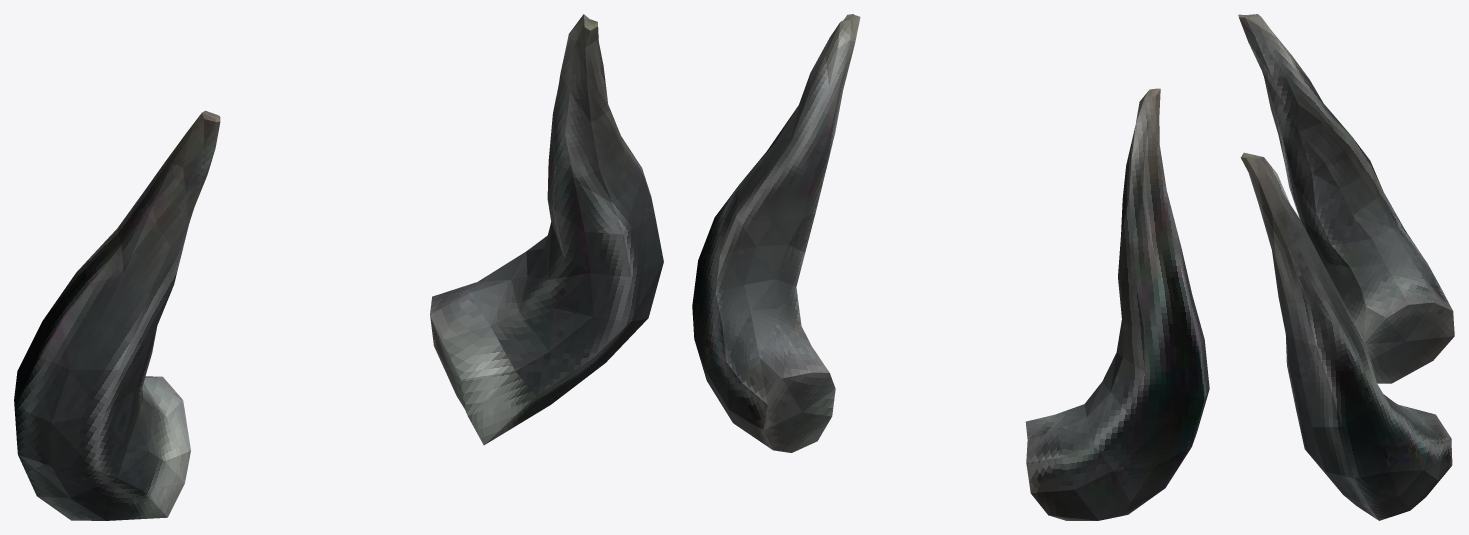
File: ewm_t2overlord_hat.glb
The picture shows the model from 3 angles, left to right: view 1: azimuth 30°, elevation 25°; view 2: azimuth 150°, elevation 25°; view 3: azimuth 270°, elevation 25°; orthographic projection. The views are drawn at different scales.
Parts seen in each view (by area): view 1: ewm_t2overlord_hat; view 2: ewm_t2overlord_hat; view 3: ewm_t2overlord_hat.
Boxes of the visible parts, left/top/right/bottom form: ewm_t2overlord_hat: left=14, top=14, right=663, bottom=520; ewm_t2overlord_hat: left=692, top=14, right=1209, bottom=520; ewm_t2overlord_hat: left=1238, top=14, right=1454, bottom=520.
Size of the model in its own units: 0.3509 by 0.2497 by 0.1347.
Materials: 1 (1 with a texture image).
